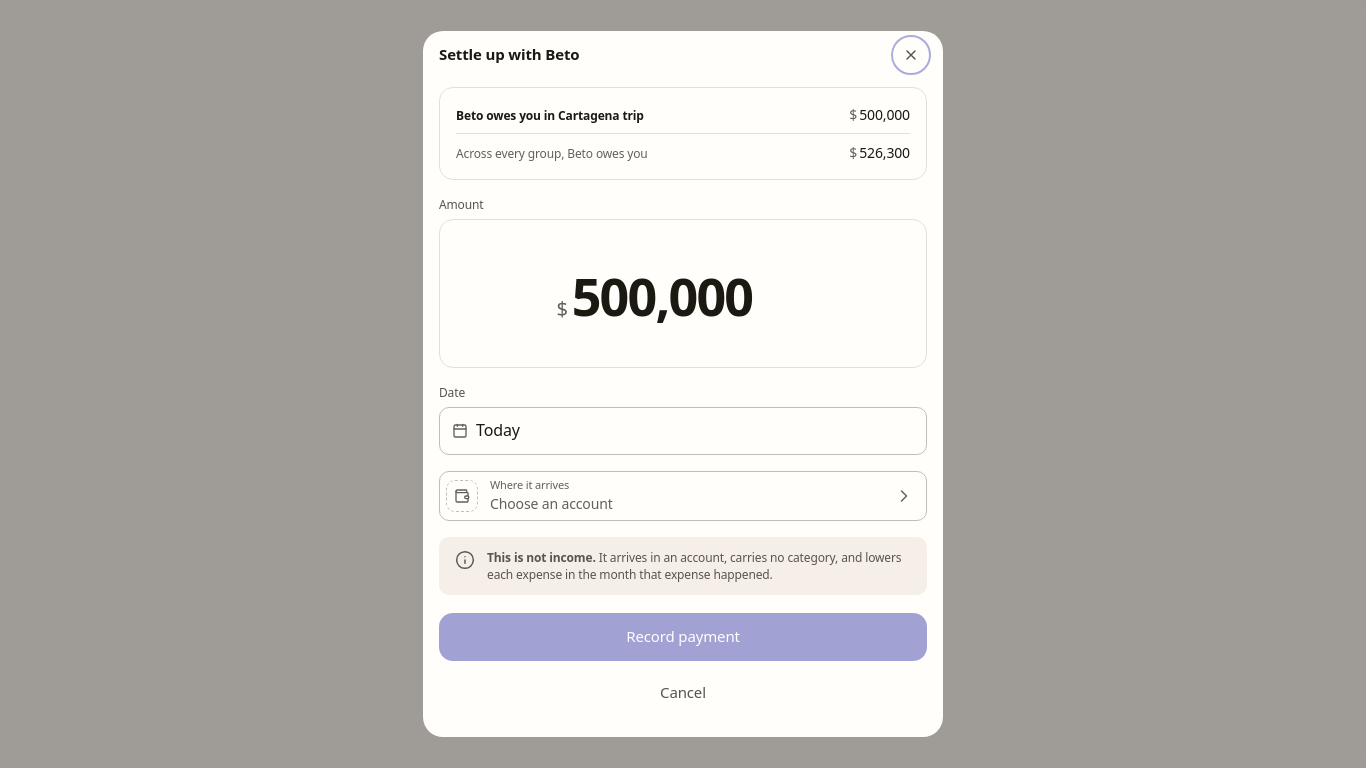
the settle-up sheet › takes more than the group, up to the total, and says where the rest goes
Clear the field labelled "Amount" at (691, 295), box [572,260,810,331]
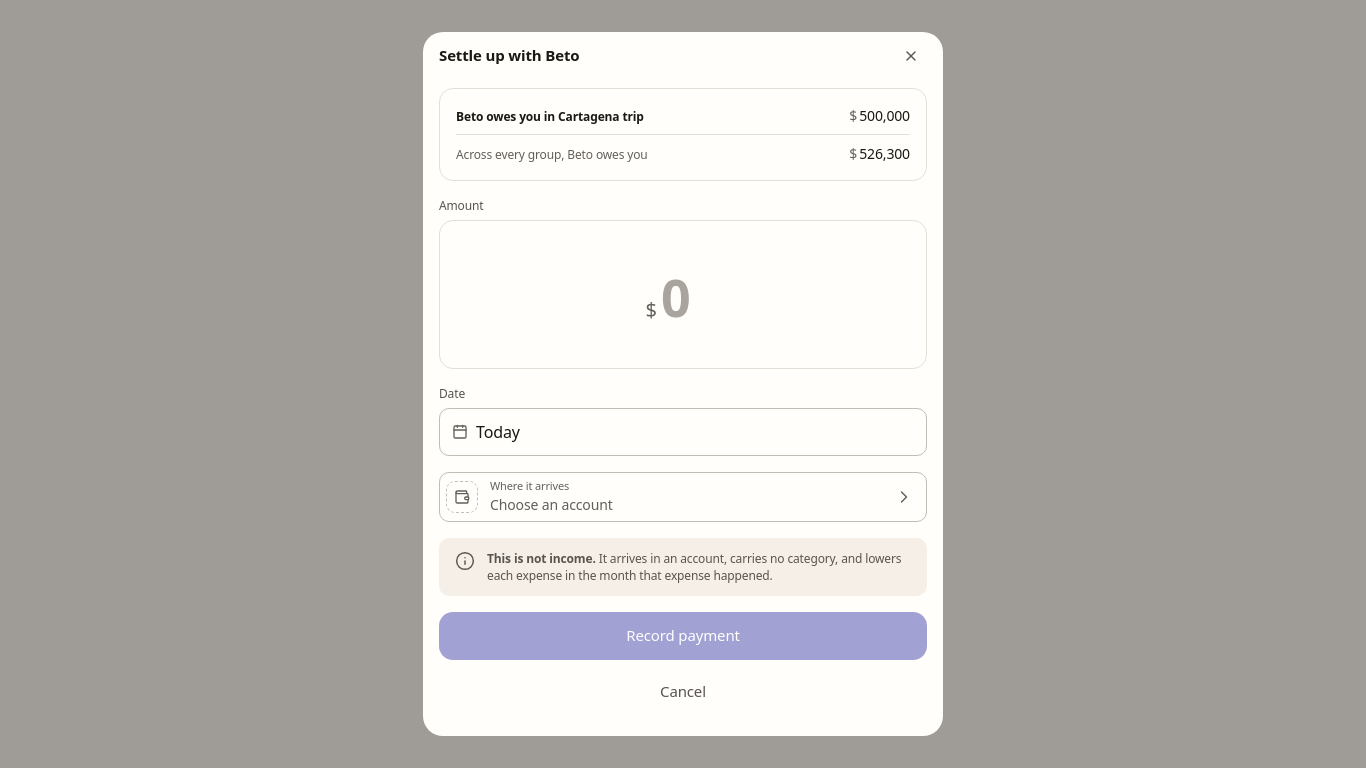
Type "510000" into the field labelled "Amount" at (691, 296), box [661,261,720,332]
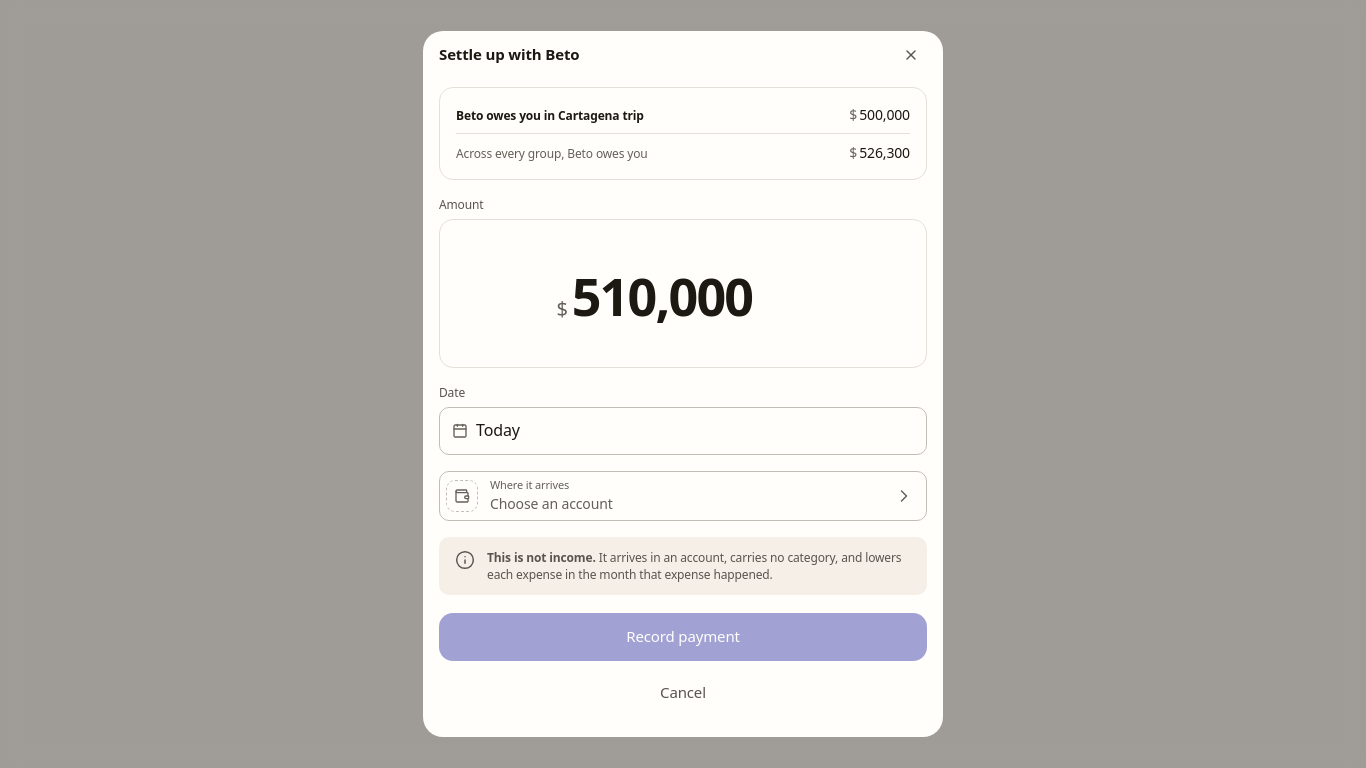
Expected: the text "It settles Cartagena trip" is not shown
Clear the field labelled "Amount" at (691, 295), box [572,260,810,331]
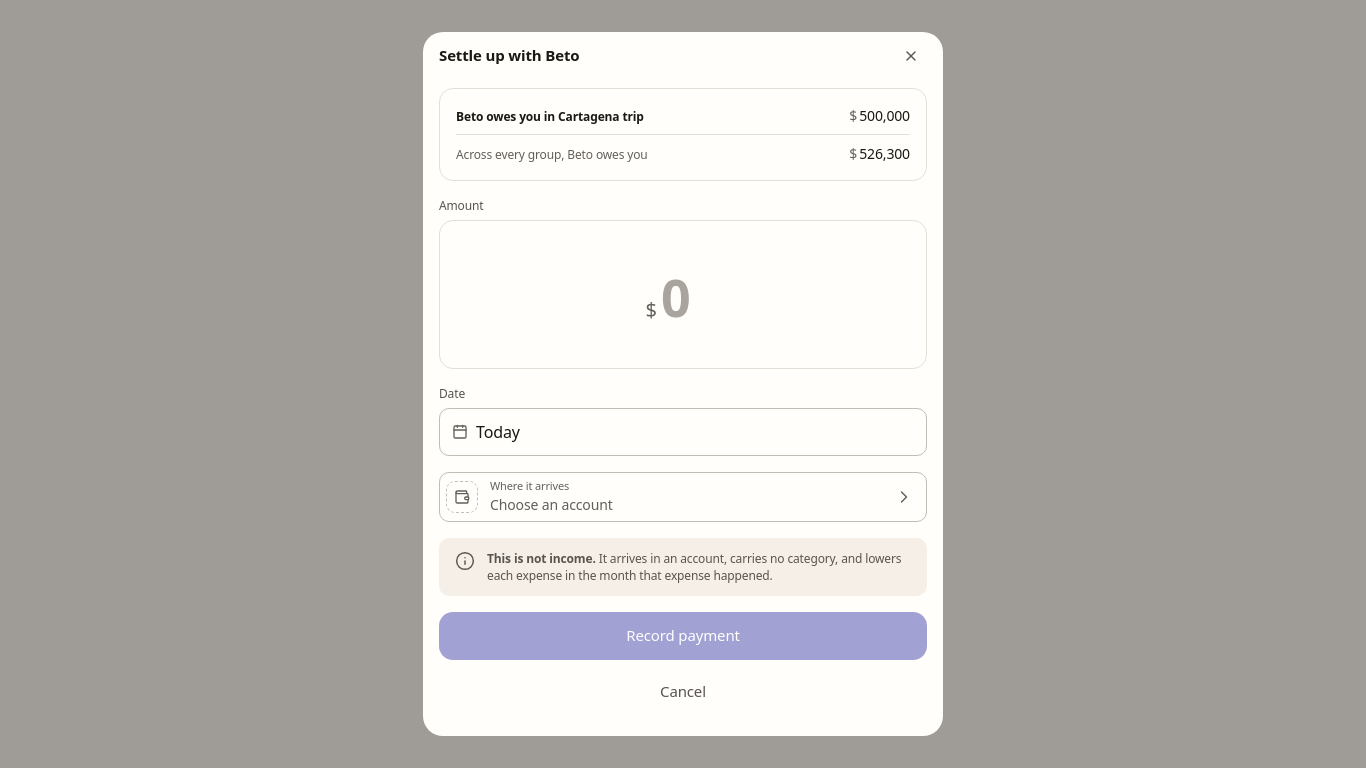
Type "526301" into the field labelled "Amount" at (691, 296), box [661,261,720,332]
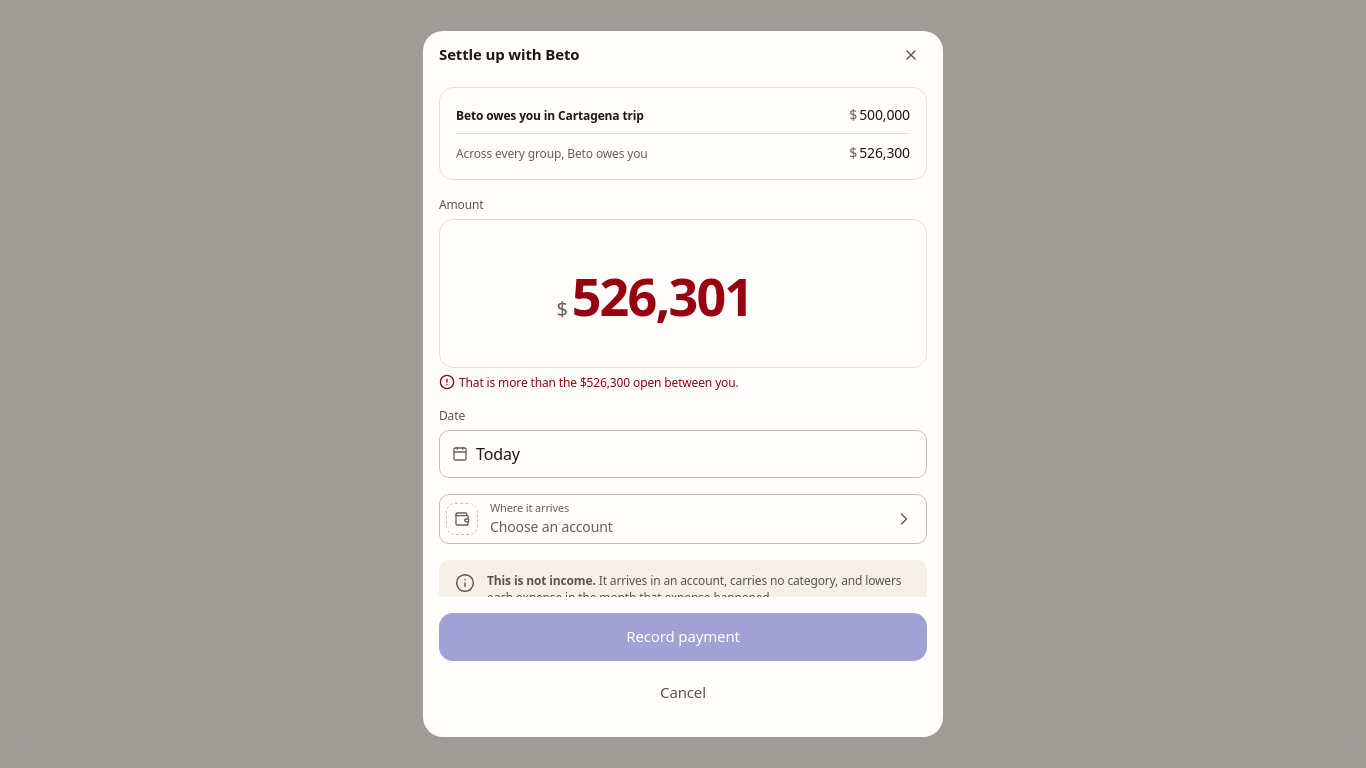
Expected: the text "That is more than the $526,300 open between you." is shown, [439,374,739,391]
